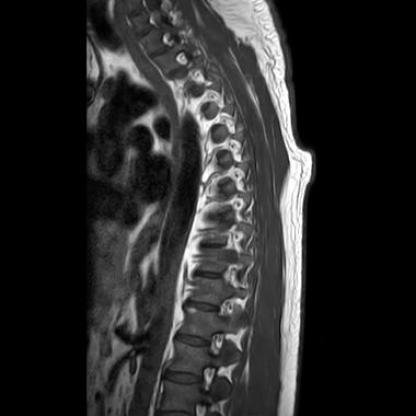Disc Protrusionrotation: (190, 90, 222, 115), (203, 126, 233, 143)
